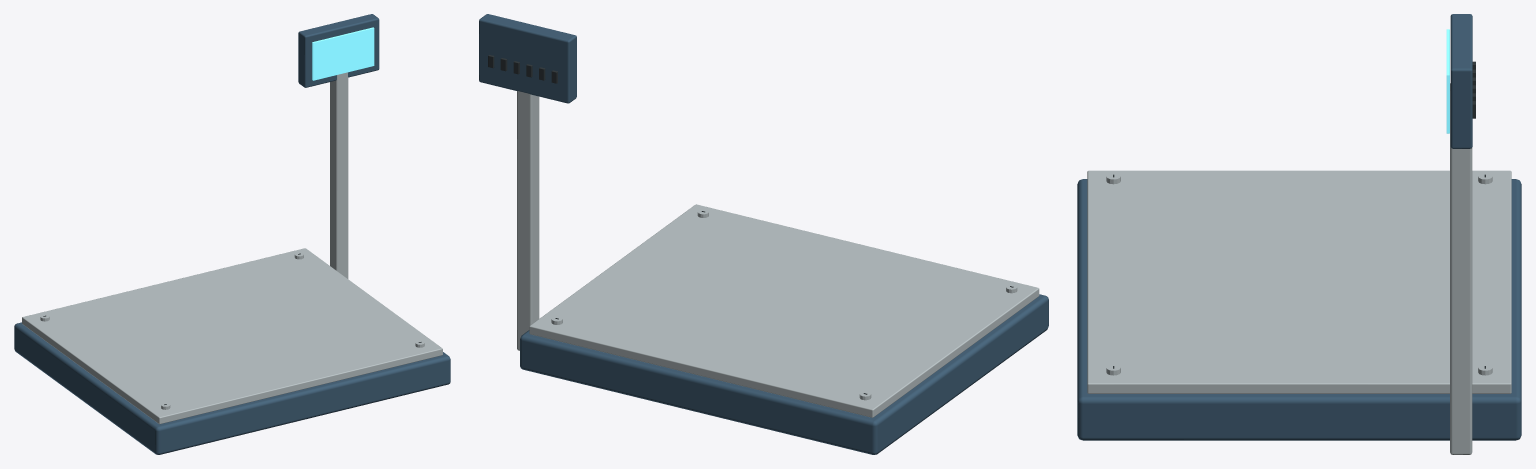
The model's file is container-inspection-and-customs-yard-container-inspec-aa010386__29314.glb.
The picture shows the model from 3 angles, left to right: view 1: azimuth 30°, elevation 25°; view 2: azimuth 150°, elevation 25°; view 3: azimuth 270°, elevation 25°; orthographic projection. The views are drawn at different scales.
Parts seen in each view (by area): view 1: container-inspection-and-customs-yard-pallet-scale; view 2: container-inspection-and-customs-yard-pallet-scale; view 3: container-inspection-and-customs-yard-pallet-scale.
Part boxes in pixels (left/top/right/bottom): container-inspection-and-customs-yard-pallet-scale: left=14, top=14, right=450, bottom=454; container-inspection-and-customs-yard-pallet-scale: left=479, top=14, right=1048, bottom=454; container-inspection-and-customs-yard-pallet-scale: left=1077, top=14, right=1521, bottom=454.
Bounding box in the file's own units: 1.51 × 1.12 × 1.1.
